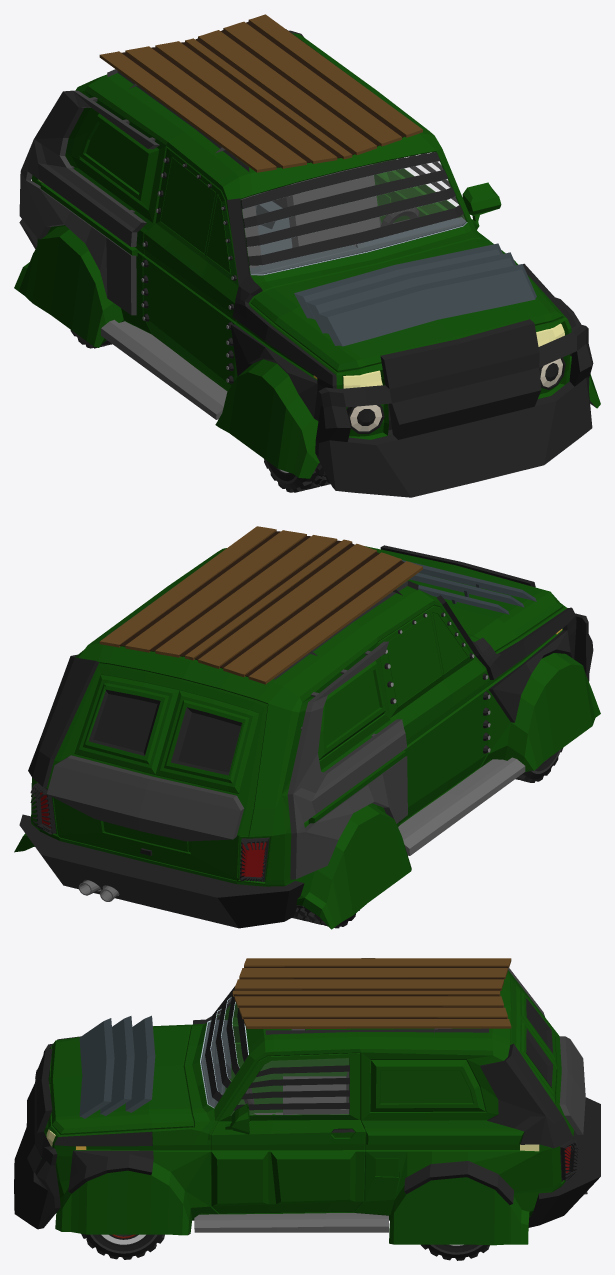
File: car2.glb
3 renders of one model, top to bottom at view 1: azimuth 30°, elevation 25°; view 2: azimuth 150°, elevation 25°; view 3: azimuth 270°, elevation 25°, orthographic. The views are drawn at different scales.
Parts seen in each view (by area): view 1: Body.006, Bumper.005, Roof, hood.002, WindowFront.002, Body.007, Door.004, Body.Armor.002, RoofXD.002, WindowDoor.004, WondowRight.002, Seats.002 (+8 smaller); view 2: Body.006, Roof, WindowBack.002, Body.007, Bumper.006, Door.004, Trunk.Armor, Trunk.002, hood.002, Body.Armor.002, WindowDoor.004, RoofXD.002 (+6 smaller); view 3: Body.006, Roof, Door.005, hood.002, WondowRight.002, Body.Armor.001, Bumper.005, Body.Armor, RoofXD.002, Bumper.006, WindowFront.002, WindowBack.002 (+11 smaller).
Boxes of the visible parts, x1,y1,x2,y2 form: Body.006: [14, 33, 600, 478]; Bumper.005: [315, 319, 593, 497]; Roof: [99, 14, 422, 172]; hood.002: [250, 238, 563, 372]; WindowFront.002: [241, 152, 467, 275]; Body.007: [19, 90, 159, 315]; Door.004: [143, 147, 238, 390]; Body.Armor.002: [227, 198, 336, 420]; RoofXD.002: [101, 319, 227, 419]; WindowDoor.004: [160, 157, 230, 273]; WondowRight.002: [79, 113, 159, 208]; Seats.002: [241, 164, 380, 268]; Body.006: [14, 548, 600, 929]; Roof: [99, 526, 422, 684]; WindowBack.002: [74, 675, 258, 793]; Body.007: [287, 641, 407, 879]; Bumper.006: [19, 814, 304, 928]; Door.004: [378, 605, 487, 823]; Trunk.Armor: [47, 755, 244, 841]; Trunk.002: [47, 663, 267, 880]; hood.002: [365, 546, 563, 651]; Body.Armor.002: [437, 595, 576, 722]; WindowDoor.004: [387, 612, 467, 706]; RoofXD.002: [398, 757, 525, 855]; Body.006: [41, 970, 573, 1245]; Roof: [232, 958, 511, 1034]; Door.005: [210, 1053, 365, 1213]; hood.002: [50, 1015, 193, 1134]; WondowRight.002: [370, 1060, 485, 1111]; Body.Armor.001: [54, 1131, 513, 1205]; Bumper.005: [14, 1043, 60, 1229]; Body.Armor: [480, 1043, 573, 1148]; RoofXD.002: [194, 1112, 388, 1232]; Bumper.006: [528, 1097, 600, 1227]; WindowFront.002: [200, 995, 248, 1108]; WindowBack.002: [516, 986, 557, 1103].
Size of the model in its own units: 7.82 by 5.93 by 14.72.
Materials: 4 (1 with a texture image).
